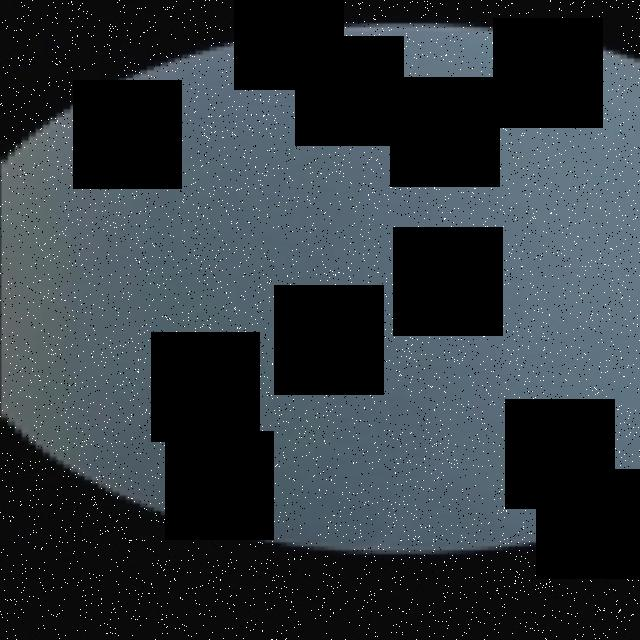Uranus: (0, 20, 640, 550)
